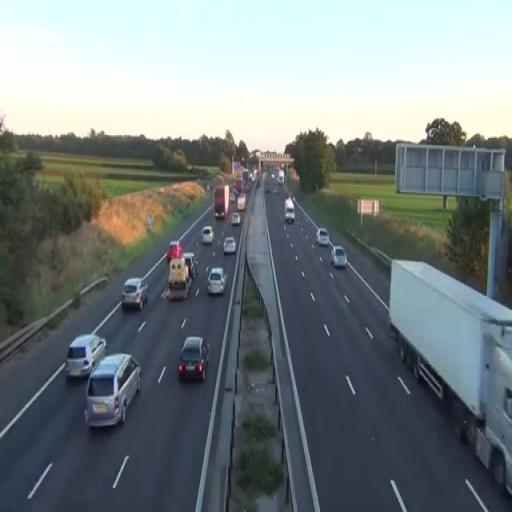Car: (84, 352, 142, 430), (64, 332, 108, 379), (178, 336, 210, 382), (122, 278, 148, 312), (206, 266, 226, 296), (330, 246, 348, 269), (316, 228, 330, 247), (202, 226, 214, 246), (223, 237, 236, 255), (231, 212, 241, 226)
Truck: (388, 258, 512, 500), (168, 258, 190, 300), (214, 184, 230, 221)
